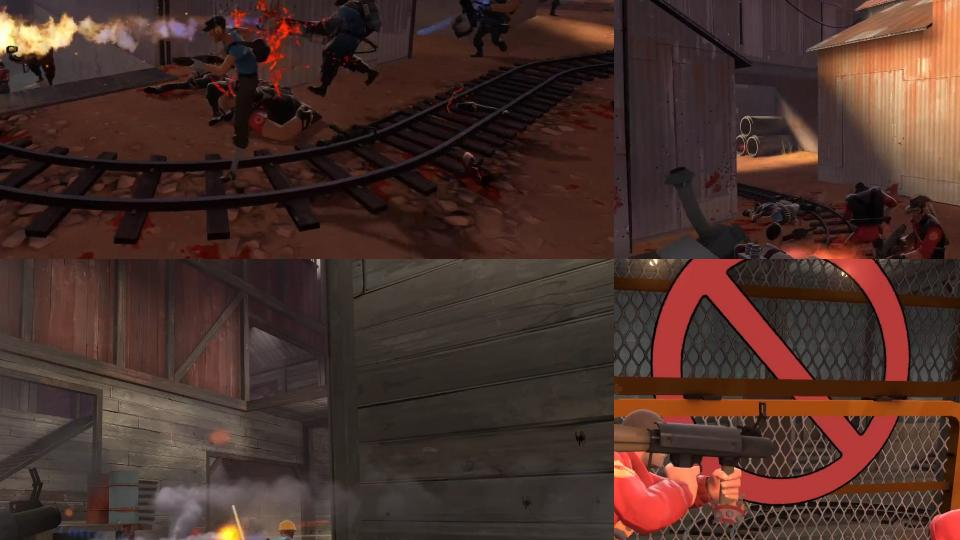Enemy: (614, 384, 779, 540), (171, 14, 272, 182), (282, 0, 383, 98), (217, 80, 324, 141), (848, 196, 950, 259), (840, 180, 898, 259), (451, 0, 525, 57), (5, 21, 56, 86), (0, 60, 11, 95), (537, 0, 559, 17)
